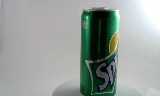sprite: (74, 6, 112, 95)
